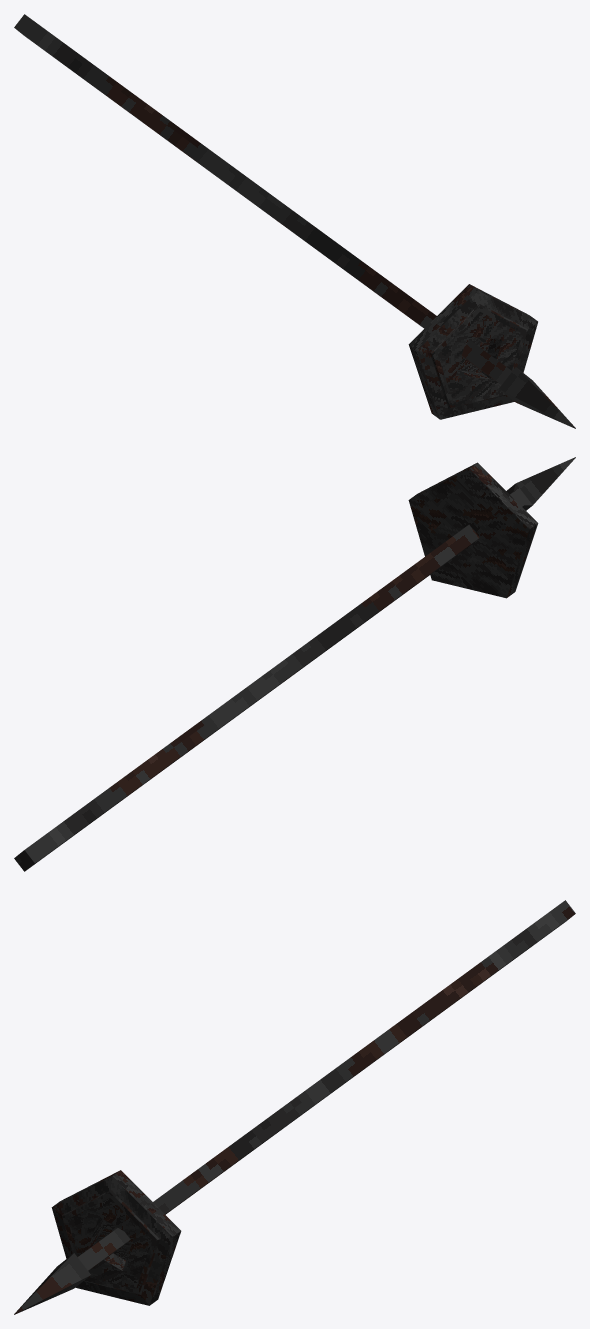
Rendered from trampadepared.glb.
3 renders of one model, top to bottom at view 1: azimuth 30°, elevation 25°; view 2: azimuth 150°, elevation 25°; view 3: azimuth 330°, elevation 25°, orthographic.
Visible parts, largest first — view 1: pua, base; view 2: pua, base; view 3: pua, base.
Boxes of the visible parts, <box> form: pua: <box>14,14,575,428</box>; base: <box>408,284,537,419</box>; pua: <box>14,457,575,871</box>; base: <box>408,462,538,598</box>; pua: <box>14,900,575,1314</box>; base: <box>51,1170,181,1305</box>.
Bounding box in the file's own units: 0.3058 × 0.291 × 2.41.
1 material, 1 textured.
